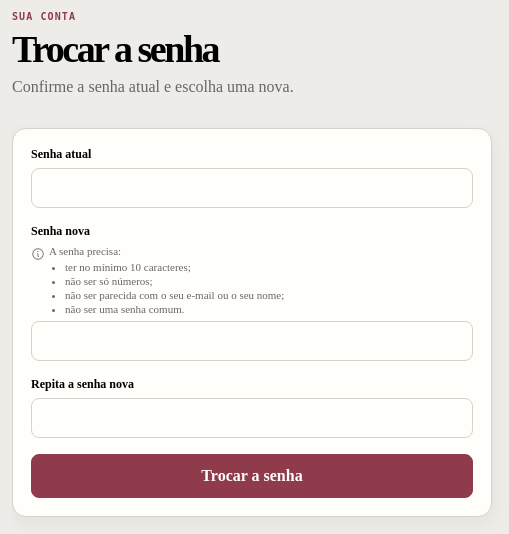
o pedido e os erros (RF-08) › o POST auth/password leva a atual e a nova, sem a confirmação
Type "senha-atual-1" into the password field labelled "Senha atual" at (252, 188), box [31,168,473,208]
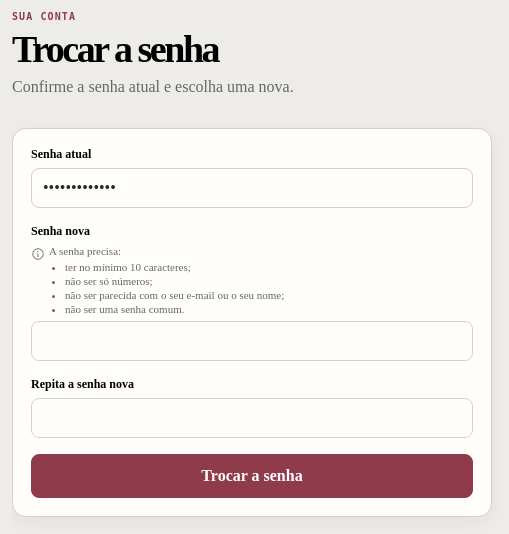
Type "nova-senha-longa-9" into the password field labelled "Senha nova" at (252, 341), box [31,321,473,361]
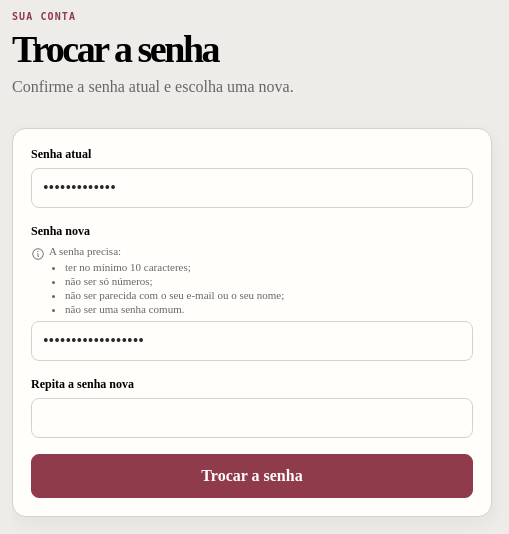
Type "nova-senha-longa-9" into the password field labelled "Repita a senha nova" at (252, 418), box [31,398,473,438]
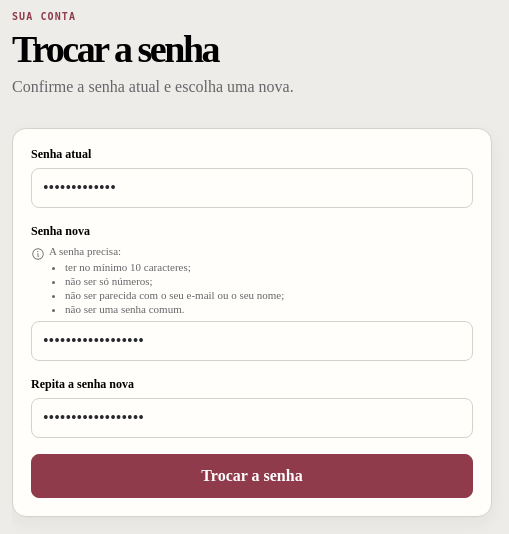
Click the button "Trocar a senha" at (252, 476), box [31,454,473,498]
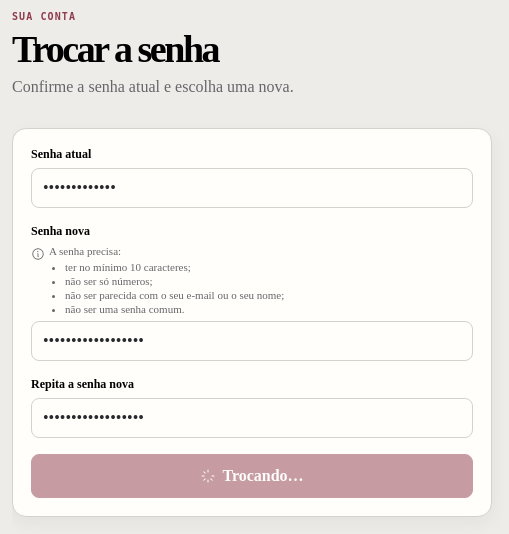
Check: the button "Trocando…" is disabled, box [31,454,473,498]
